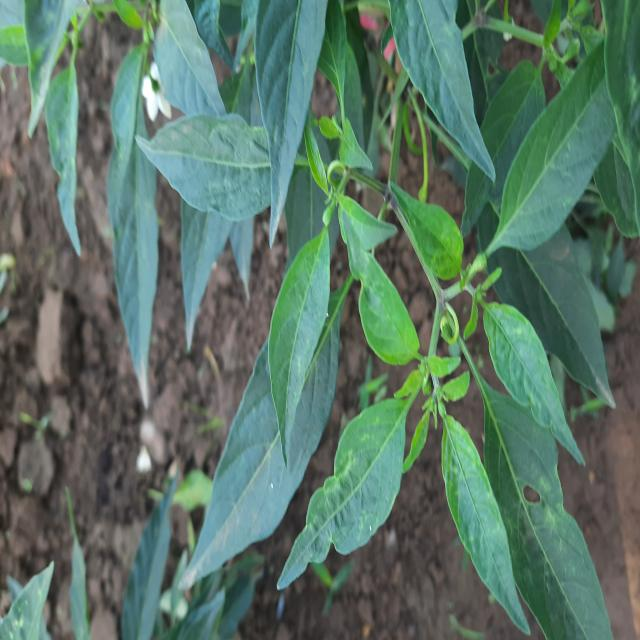sehat: (179, 256, 340, 593), (496, 44, 621, 250), (264, 214, 338, 483)
